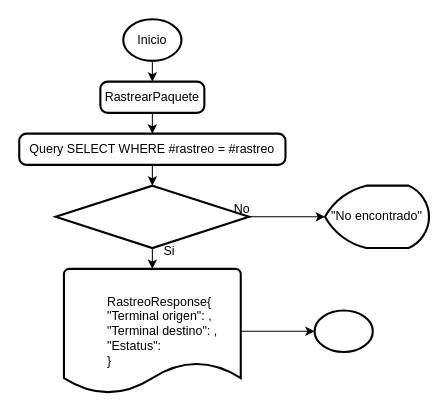
Image size: 447x412. Some labels were removed from this diagram. Each missing label, with the box of its shape:
Fin: (313, 309, 373, 353)
¿Paquete encontrado?: (54, 184, 250, 249)
